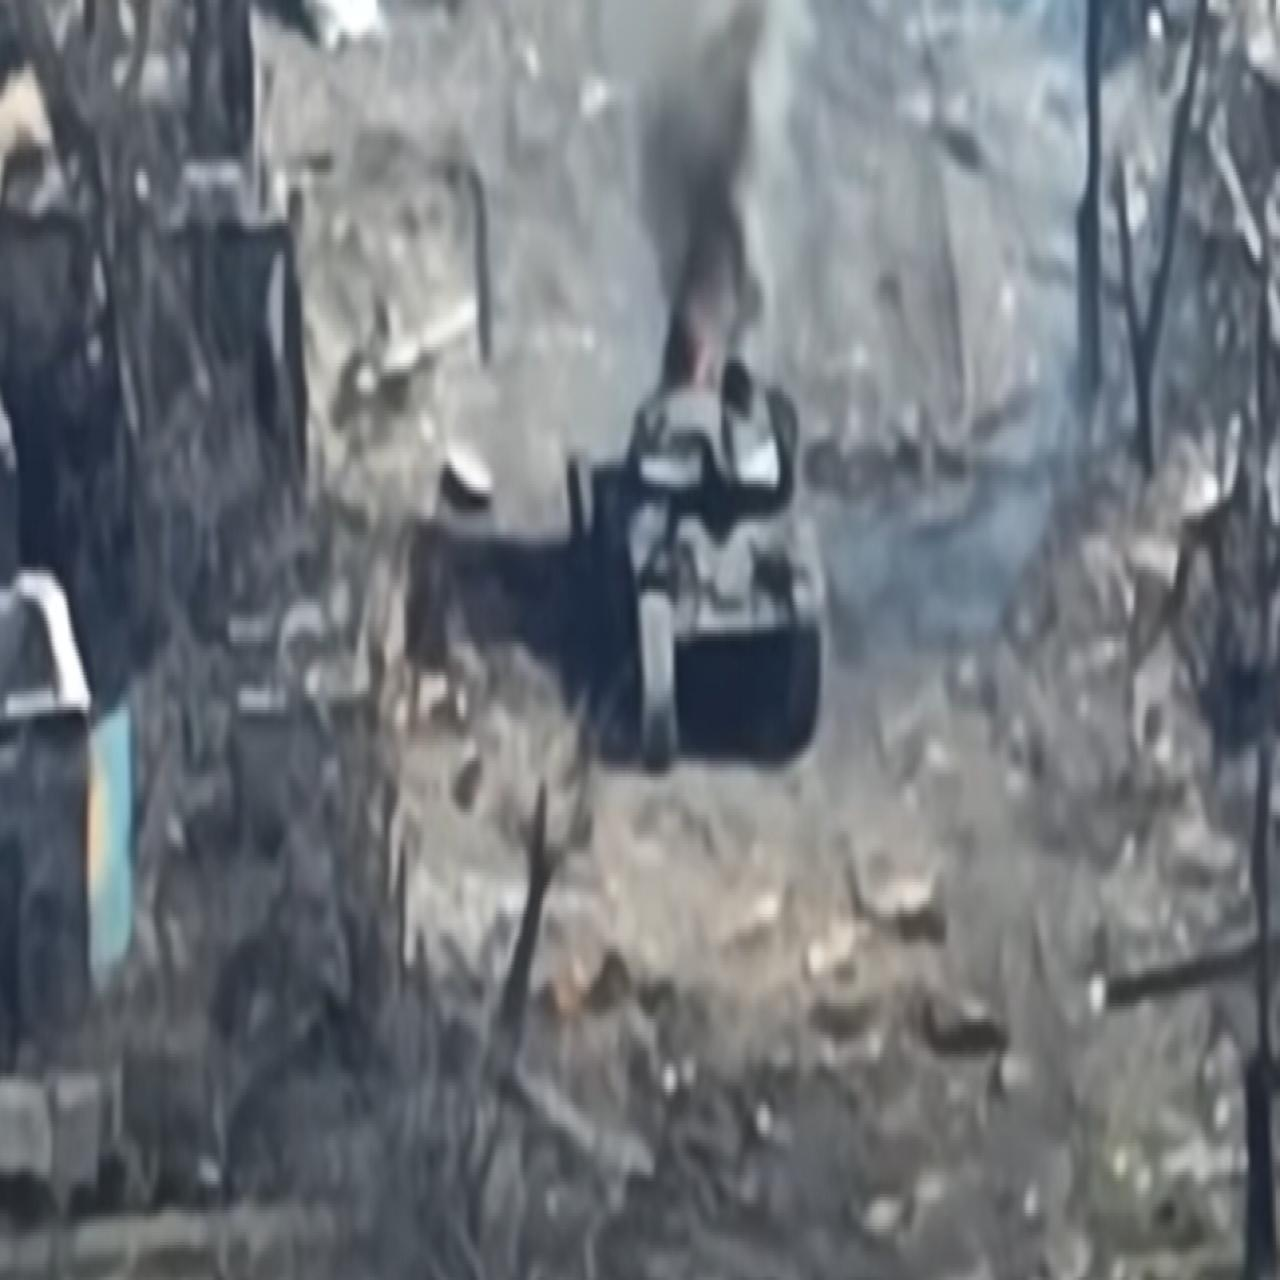MIL_Veh: (561, 328, 828, 776)
